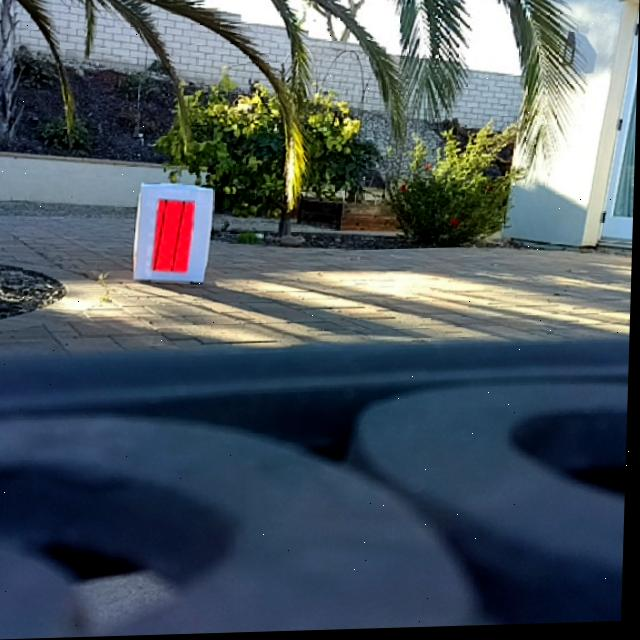led: (155, 200, 195, 275)
